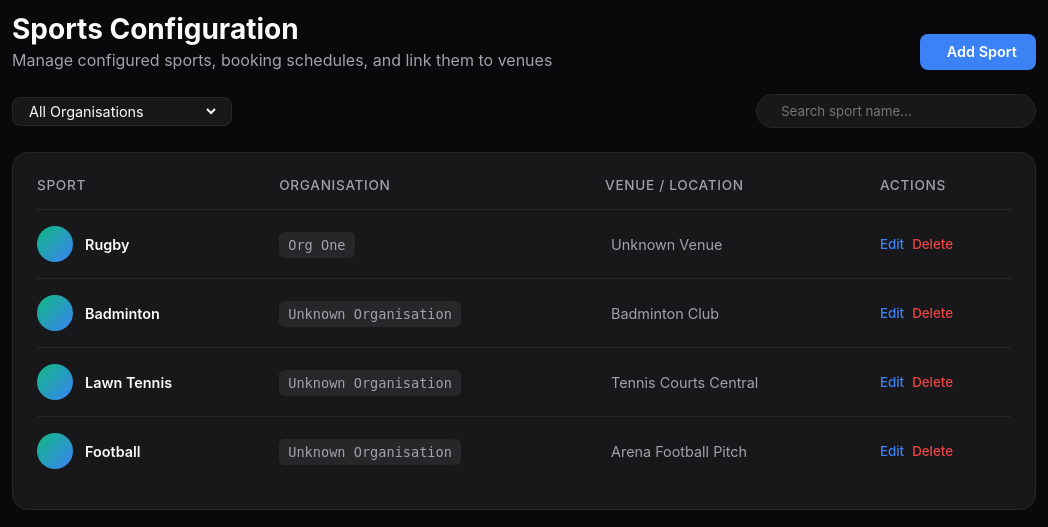
Sports Page tests › should filter sports by search query
Check: the text "Rugby" is shown, box x1=85 y1=236 x2=129 y2=252
In the field with placeholder "Search sport name...": (900,111) x1=781 y1=103 x2=1019 y2=119, type "Rugb"
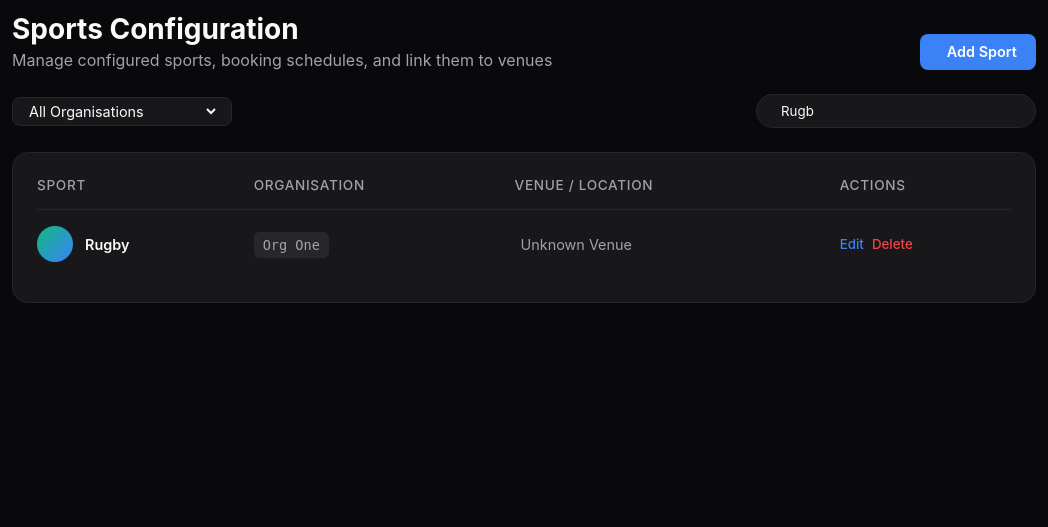
Check: the text "Rugby" is shown, box x1=85 y1=236 x2=129 y2=252
Replace the text in the field with placeholder "Search sport name..." with "Tennis": (900,111) x1=781 y1=103 x2=1019 y2=119
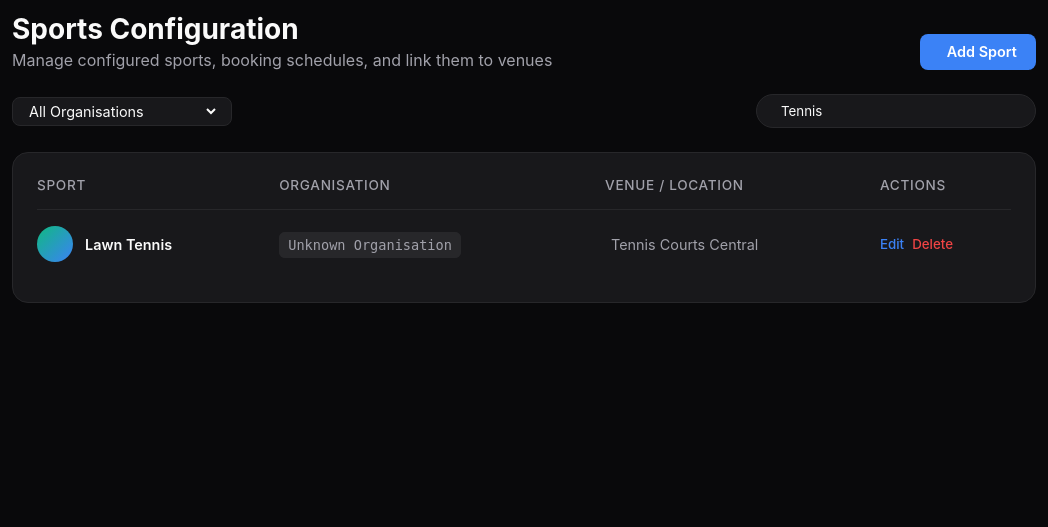
Check: the text "Rugby" is gone
